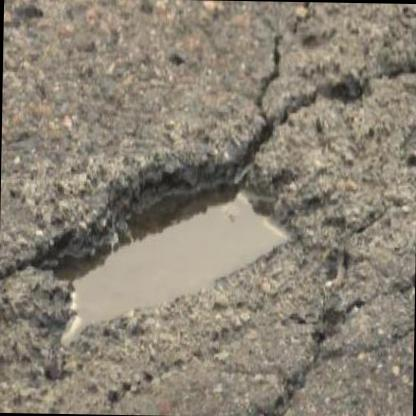pothole: (16, 146, 310, 358)
